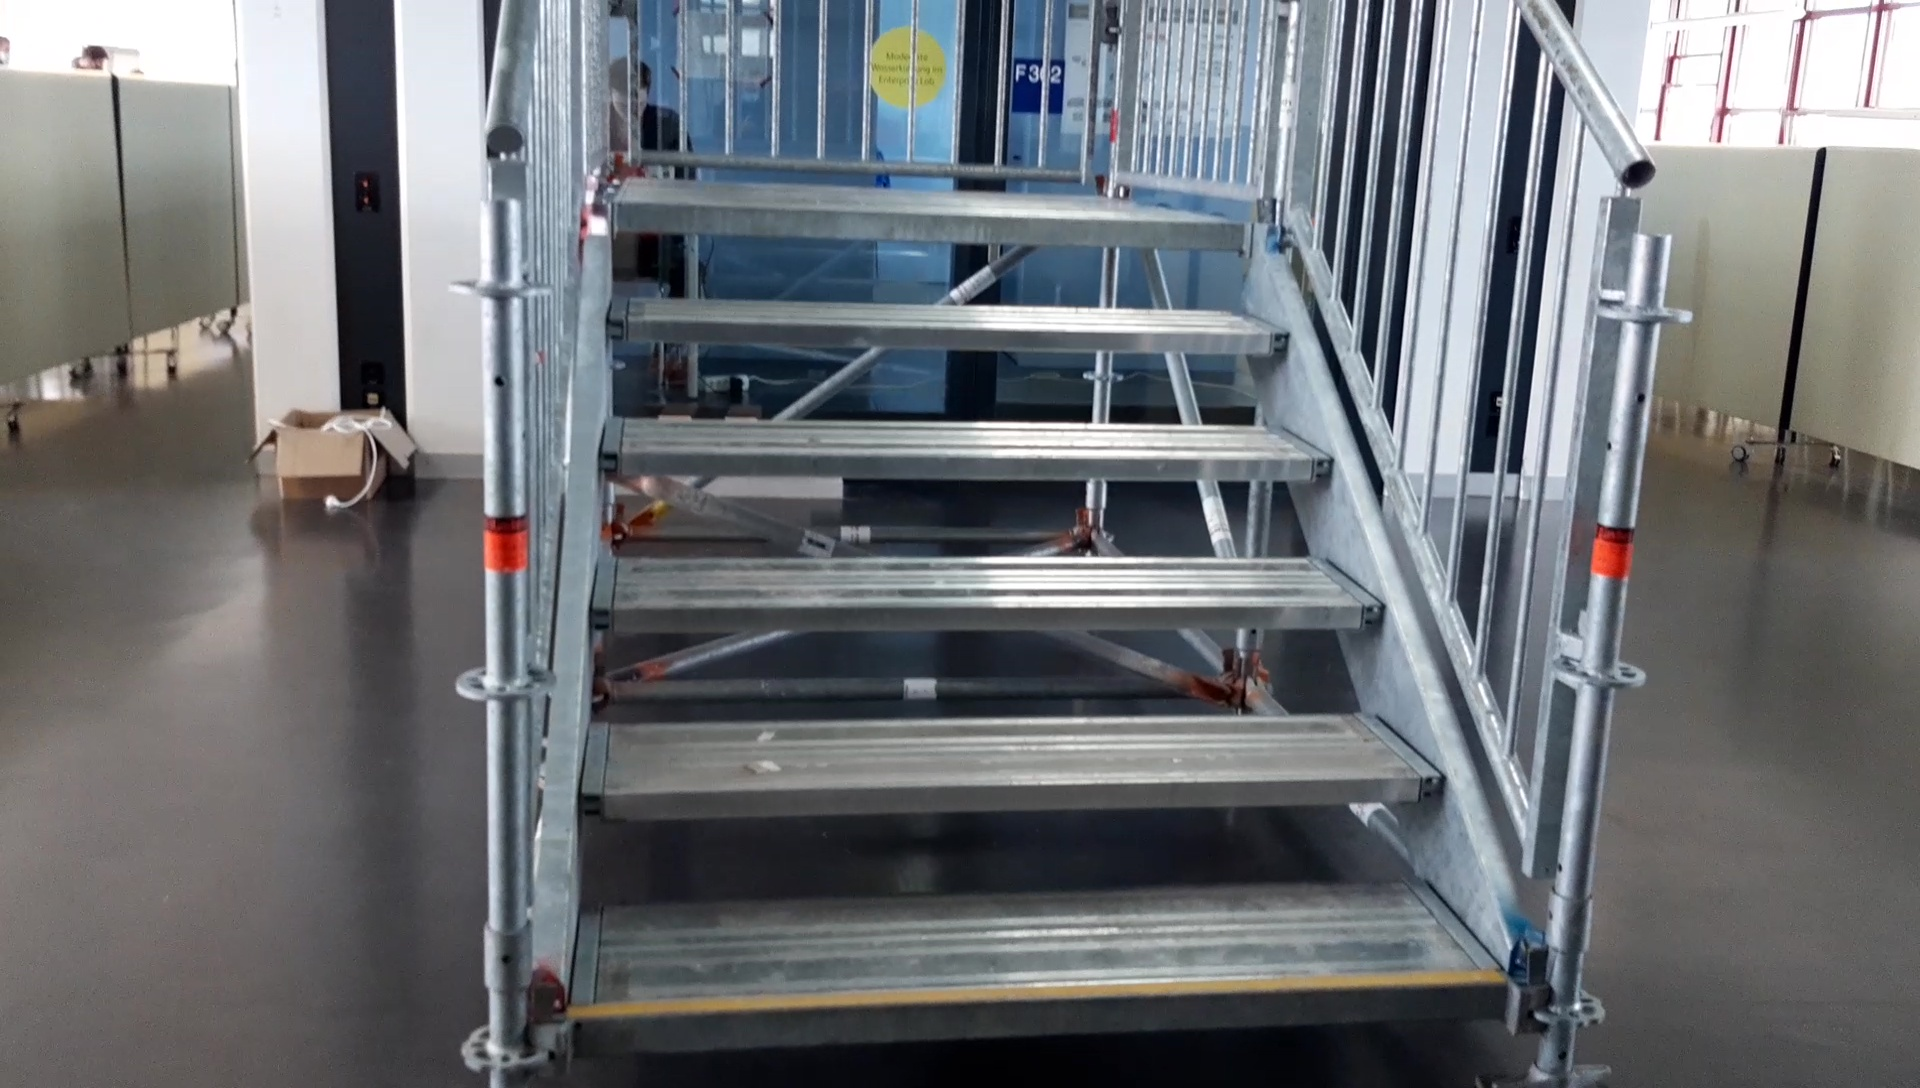edge: (570, 980, 1509, 1052), (583, 771, 1443, 822), (609, 198, 1250, 249), (605, 315, 1290, 352), (585, 600, 1385, 630), (597, 454, 1331, 480)
stairs: (444, 7, 1691, 1080)
steps: (566, 196, 1507, 1060)
